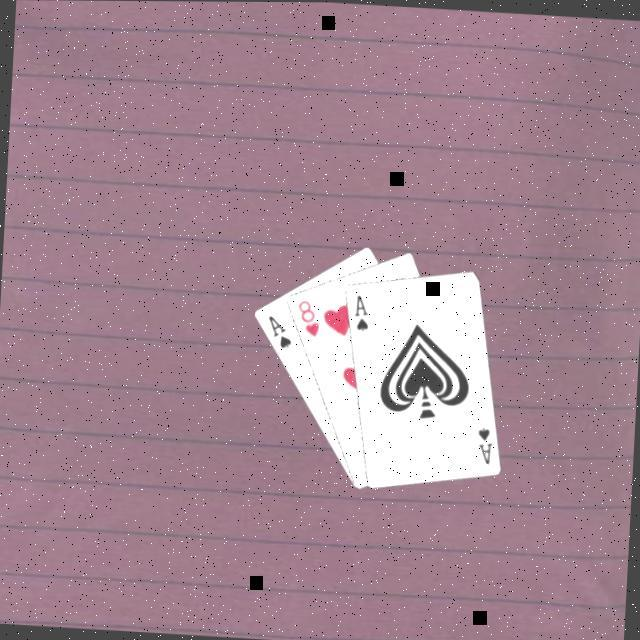8H: (292, 296, 322, 339)
AS: (262, 310, 294, 352), (472, 421, 495, 466), (348, 290, 372, 332)
